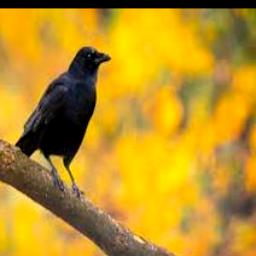Crow: (13, 46, 111, 200)
